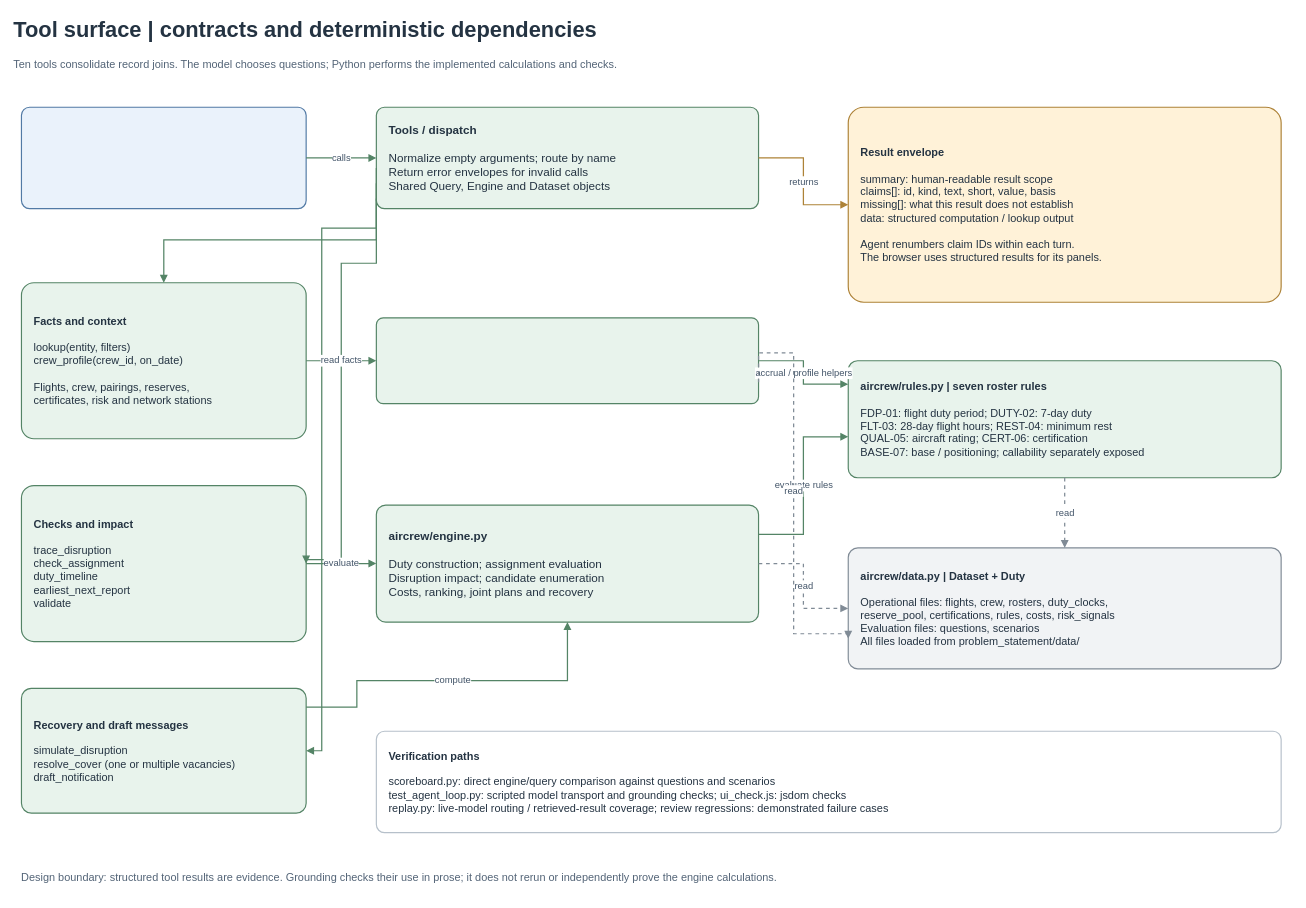
Image size: 1306x908. Some labels were removed from this diagram. The centre of each missing label's shape, as x and y in pixels:
"aircrew/query.py Filtered records, profiles and derived lookup fields" goes at (x=567, y=360).
"Callers Agent tool calls POST /api/tool CLI deterministic operations" goes at (x=163, y=157).
